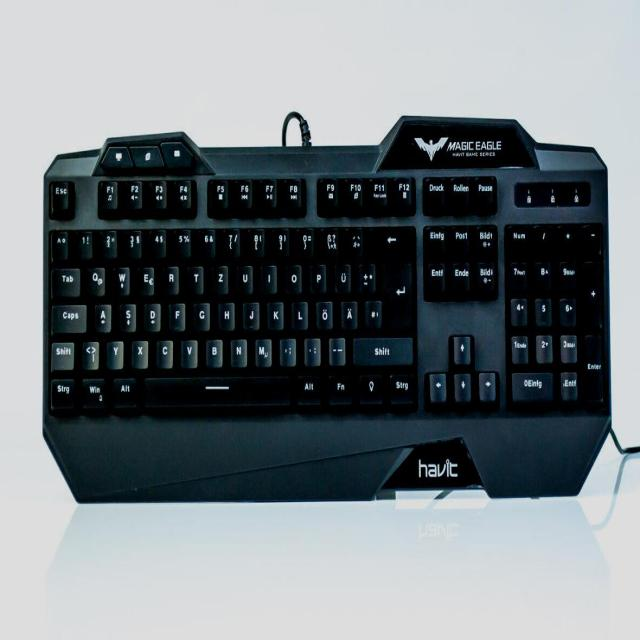0: (295, 225, 314, 256)
1: (73, 227, 92, 257)
2: (98, 226, 117, 257)
3: (123, 227, 142, 257)
4: (147, 226, 166, 256)
5: (172, 226, 191, 256)
6: (197, 226, 215, 257)
7: (221, 226, 240, 256)
8: (246, 226, 265, 257)
9: (271, 225, 289, 256)
a: (92, 301, 111, 331)
accent: (344, 223, 362, 254)
ae: (338, 297, 357, 328)
alt-left: (111, 374, 137, 406)
altgr-right: (295, 372, 320, 403)
b: (204, 335, 222, 365)
c: (154, 337, 173, 367)
caret: (50, 227, 68, 258)
comma: (277, 334, 295, 363)
d: (142, 300, 160, 330)
del: (368, 223, 412, 255)
e: (135, 263, 154, 294)
enter: (380, 260, 412, 328)
f: (167, 300, 184, 328)
g: (191, 299, 209, 329)
h: (216, 299, 234, 328)
hash: (363, 297, 382, 328)
i: (258, 262, 276, 292)
j: (241, 298, 259, 328)
k: (265, 297, 283, 328)
keyboard: (40, 154, 610, 426)
l: (289, 297, 307, 328)
less: (80, 338, 98, 367)
m: (253, 335, 271, 365)
minus: (327, 334, 345, 363)
n: (228, 335, 247, 365)
o: (283, 262, 301, 292)
oe: (313, 297, 332, 328)
p: (308, 261, 326, 292)
plus: (356, 260, 375, 291)
point: (302, 334, 320, 363)
q: (86, 263, 105, 294)
r: (160, 262, 178, 293)
s: (117, 300, 135, 330)
shift-left: (49, 338, 74, 369)
shift-lock: (49, 301, 87, 332)
shift-right: (351, 333, 412, 364)
space: (141, 373, 290, 407)
ss: (320, 226, 338, 256)
strg-left: (48, 375, 75, 409)
strg-right: (387, 371, 414, 404)
t: (185, 262, 203, 292)
tab: (50, 265, 81, 296)
u: (235, 262, 253, 292)
ue: (332, 261, 350, 292)
v: (178, 336, 197, 366)
w: (111, 263, 129, 294)
x: (130, 337, 148, 367)
y: (105, 338, 123, 367)
z: (209, 262, 228, 292)
